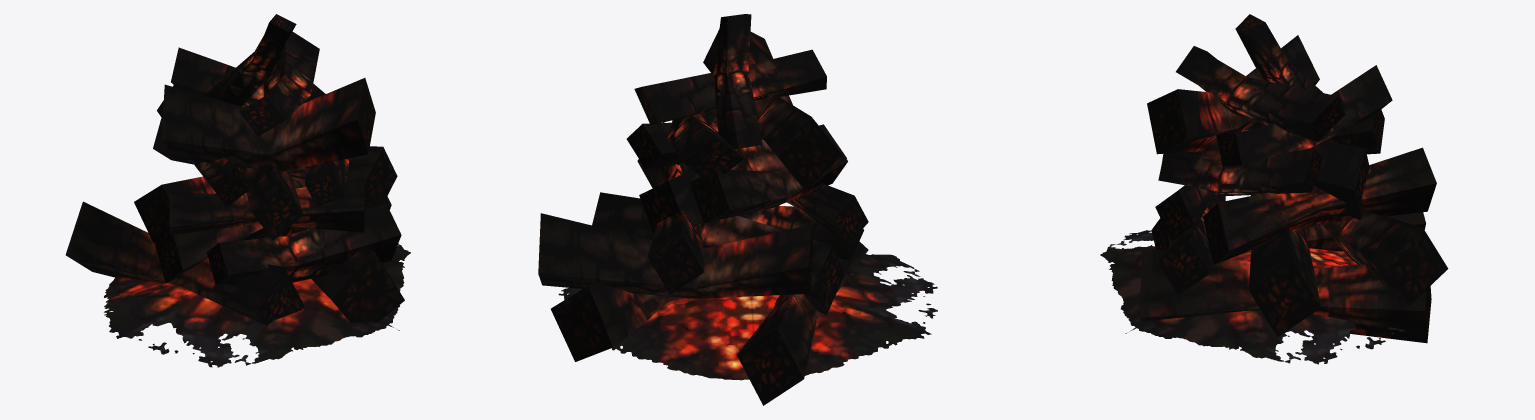
File: cave_bonfire_01.fbx
3 views of the same model, side by side, from view 1: azimuth 30°, elevation 25°; view 2: azimuth 150°, elevation 25°; view 3: azimuth 270°, elevation 25° (orthographic). The views are drawn at different scales.
Visible parts, largest first — view 1: cave_bonfire_mat; view 2: cave_bonfire_mat; view 3: cave_bonfire_mat.
Part boxes in pixels (box(x1,y1,x2,y2)): cave_bonfire_mat: box(65, 14, 410, 367); cave_bonfire_mat: box(538, 14, 937, 405); cave_bonfire_mat: box(1100, 14, 1448, 364).
Size of the model in its own units: 4.97 by 2.99 by 4.63.
